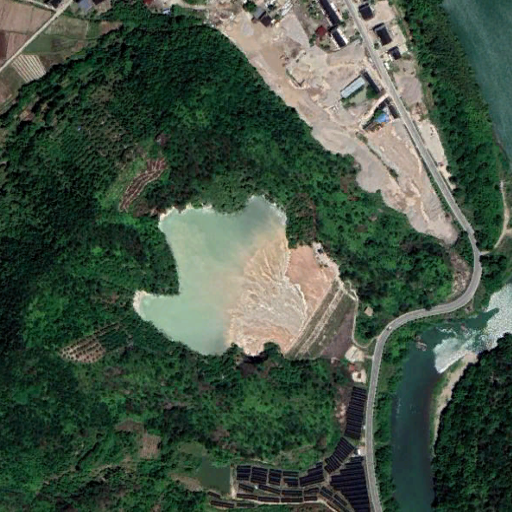tp: (132, 195, 355, 357)
